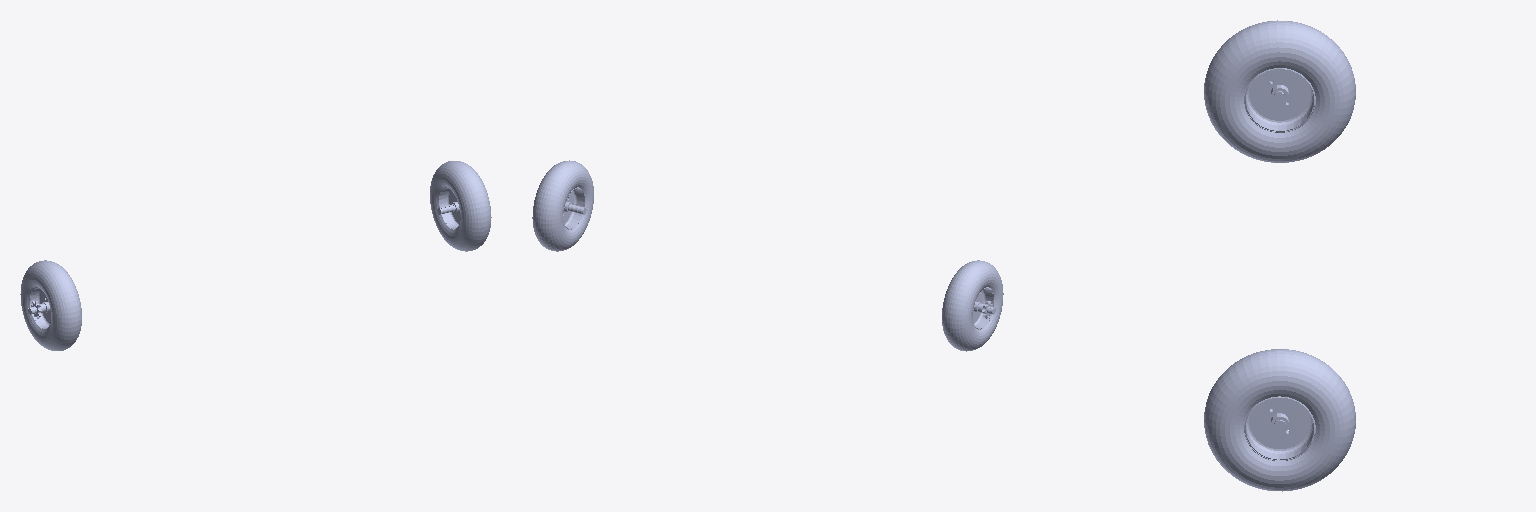
The robot description file, URDF, robot "soybot_2":
<robot
  name="soybot_2">
  <link
    name="base_link">
    <inertial>
      <origin
        xyz="-1.1494 0.55298 -0.039734"
        rpy="0 0 0" />
      <mass
        value="356.85" />
      <inertia
        ixx="197.69"
        ixy="0.089648"
        ixz="-0.11885"
        iyy="340.69"
        iyz="-8.6791"
        izz="489.72" />
    </inertial>
    <visual>
      <origin
        xyz="0 0 0"
        rpy="0 0 0" />
      <geometry>
        <mesh
          filename="package://soybot_2/meshes/base_link.STL" />
      </geometry>
      <material
        name="">
        <color
          rgba="0.89804 0.91765 0.92941 1" />
      </material>
    </visual>
    <collision>
      <origin
        xyz="0 0 0"
        rpy="0 0 0" />
      <geometry>
        <mesh
          filename="package://soybot_2/meshes/base_link.STL" />
      </geometry>
    </collision>
  </link>
  <link
    name="Right_wheel">
    <inertial>
      <origin
        xyz="1.04462476758771E-05 -0.0770032528544222 -1.31004537037016E-05"
        rpy="0 0 0" />
      <mass
        value="17.5681497151605" />
      <inertia
        ixx="0.00115711767158732"
        ixy="5.06081256260323E-06"
        ixz="3.97748373158206E-08"
        iyy="8.15972088196299E-08"
        iyz="-6.34667479947964E-06"
        izz="0.00115709950695815" />
    </inertial>
    <visual>
      <origin
        xyz="0 0 0"
        rpy="0 0 0" />
      <geometry>
        <mesh
          filename="package://soybot_2/meshes/Right_wheel.STL" />
      </geometry>
      <material
        name="">
        <color
          rgba="0.792156862745098 0.819607843137255 0.933333333333333 1" />
      </material>
    </visual>
    <collision>
      <origin
        xyz="0 0 0"
        rpy="0 0 0" />
      <geometry>
        <mesh
          filename="package://soybot_2/meshes/Right_wheel.STL" />
      </geometry>
    </collision>
  </link>
  <joint
    name="Right_wheel_hinge"
    type="continuous">
    <origin
      xyz="-2.1041 -0.82602 -0.093708"
      rpy="0 -0.072102 -1.5708" />
    <parent
      link="base_link" />
    <child
      link="Right_wheel" />
    <axis
      xyz="0 1 0" />
    <dynamics
      friction="0.01" />
  </joint>
  <link
    name="Left_wheel">
    <inertial>
      <origin
        xyz="-1.04831112652803E-05 0.119152992518851 -1.31466841368499E-05"
        rpy="0 0 0" />
      <mass
        value="17.5063718038194" />
      <inertia
        ixx="0.000830228127143925"
        ixy="-5.1078390560308E-06"
        ixz="-3.97663530448701E-08"
        iyy="8.15798034848678E-08"
        iyz="-6.40565047816042E-06"
        izz="0.000830209966389572" />
    </inertial>
    <visual>
      <origin
        xyz="0 0 0"
        rpy="0 0 0" />
      <geometry>
        <mesh
          filename="package://soybot_2/meshes/Left_wheel.STL" />
      </geometry>
      <material
        name="">
        <color
          rgba="0.792156862745098 0.819607843137255 0.933333333333333 1" />
      </material>
    </visual>
    <collision>
      <origin
        xyz="0 0 0"
        rpy="0 0 0" />
      <geometry>
        <mesh
          filename="package://soybot_2/meshes/Left_wheel.STL" />
      </geometry>
    </collision>
  </link>
  <joint
    name="Left_wheel_hinge"
    type="continuous">
    <origin
      xyz="0 -0.82602 -0.093708"
      rpy="0 0.072102 1.5708" />
    <parent
      link="base_link" />
    <child
      link="Left_wheel" />
    <axis
      xyz="0 -1 0" />
    <dynamics
      friction="0.01" />
  </joint>
</robot>

--- What the picture shows (computed from the rendered views, not written in the file) ---
Views: 3 orthographic renders of the robot side by side, from view 1: azimuth 30°, elevation 25°; view 2: azimuth 150°, elevation 25°; view 3: azimuth 270°, elevation 25°.
Model soybot_2 with 3 links and 2 joints (2 continuous), rooted at base_link, posed every joint at zero.
Visible links, largest first — view 1: Right_wheel, Left_wheel; view 2: Right_wheel, Left_wheel; view 3: Right_wheel, Left_wheel.
Link boxes in pixels (x1,y1,x2,y2): Right_wheel: [20, 260, 81, 350]; Left_wheel: [430, 161, 491, 251]; Right_wheel: [942, 260, 1003, 351]; Left_wheel: [532, 160, 593, 251]; Right_wheel: [1204, 20, 1355, 162]; Left_wheel: [1204, 349, 1355, 491].
Bounding box of the posed robot: 2.5 × 0.4504 × 0.45 m (x, y, z).
2 mesh visuals loaded from 3 distinct referenced files (2 binary STL); not drawn: 1 (reference not matched to a file when rendering).